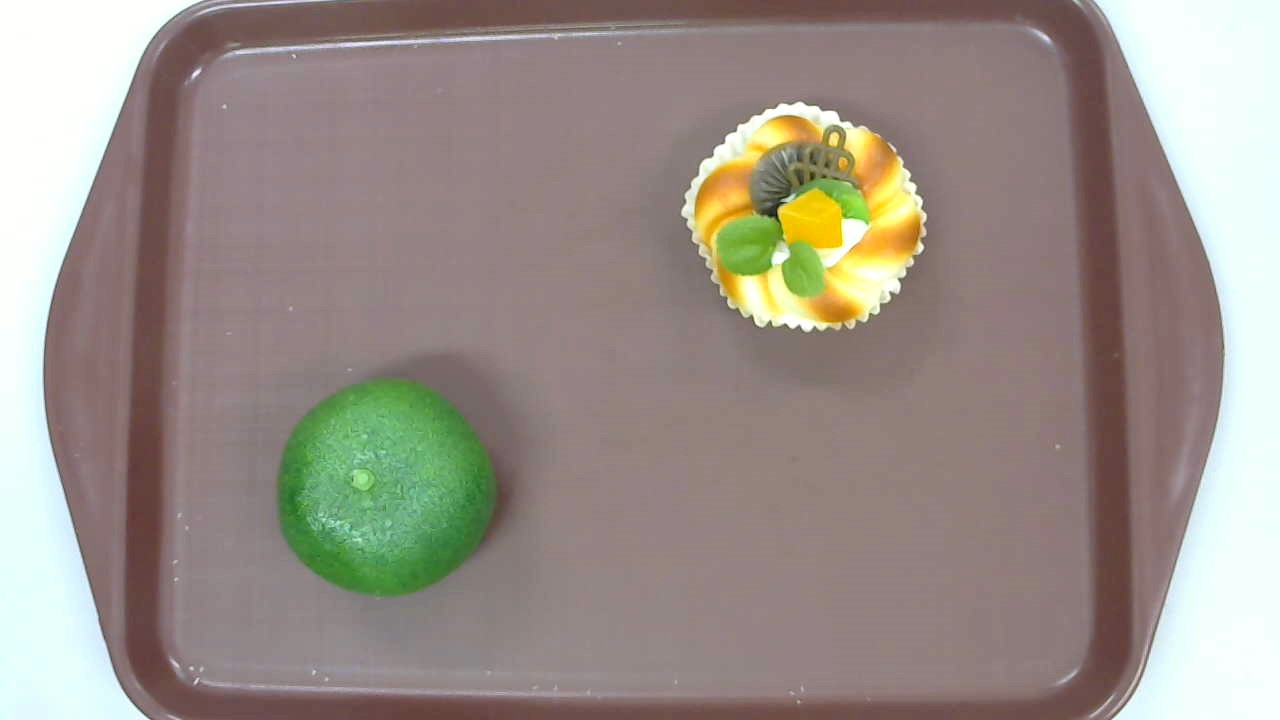fruit tart: (680, 101, 927, 333)
green orange: (275, 377, 497, 595)
